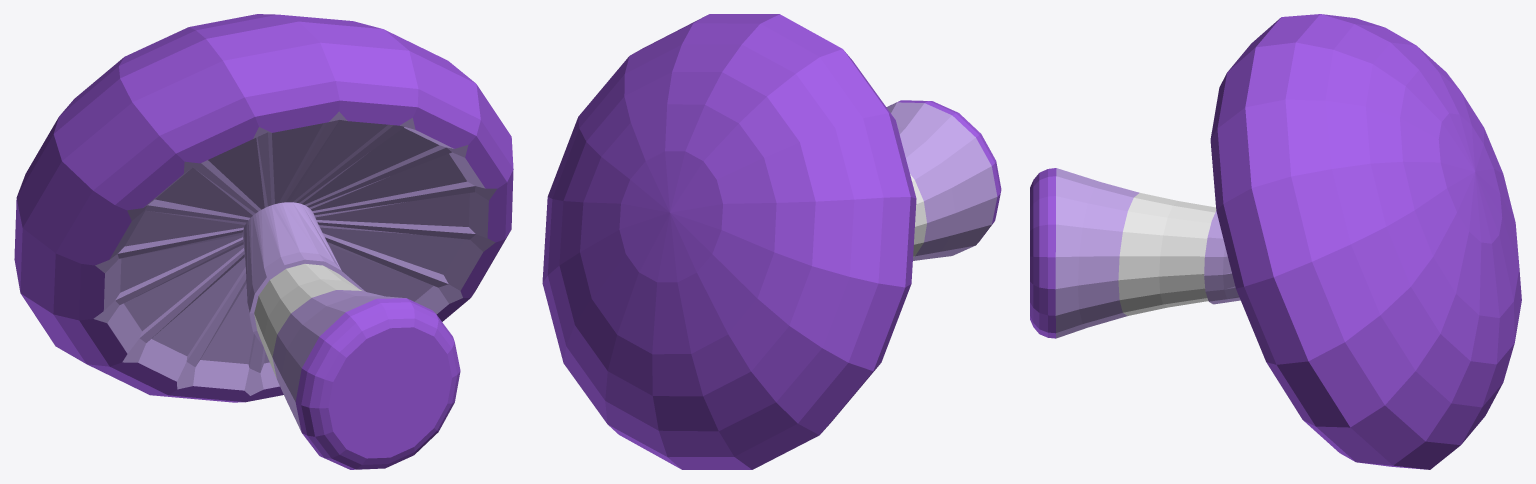
The model's file is BEST EE Tiny Shroom.fbx.
3 renders of one model, left to right at view 1: azimuth 30°, elevation 25°; view 2: azimuth 150°, elevation 25°; view 3: azimuth 270°, elevation 25°, orthographic. The views are drawn at different scales.
Parts seen in each view (by area): view 1: Circle; view 2: Circle; view 3: Circle.
Part boxes in pixels (<box>): Circle: <box>14,14,513,469</box>; Circle: <box>542,14,1001,469</box>; Circle: <box>1030,14,1521,469</box>.
Bounding box in the file's own units: 495 × 466 × 523.
